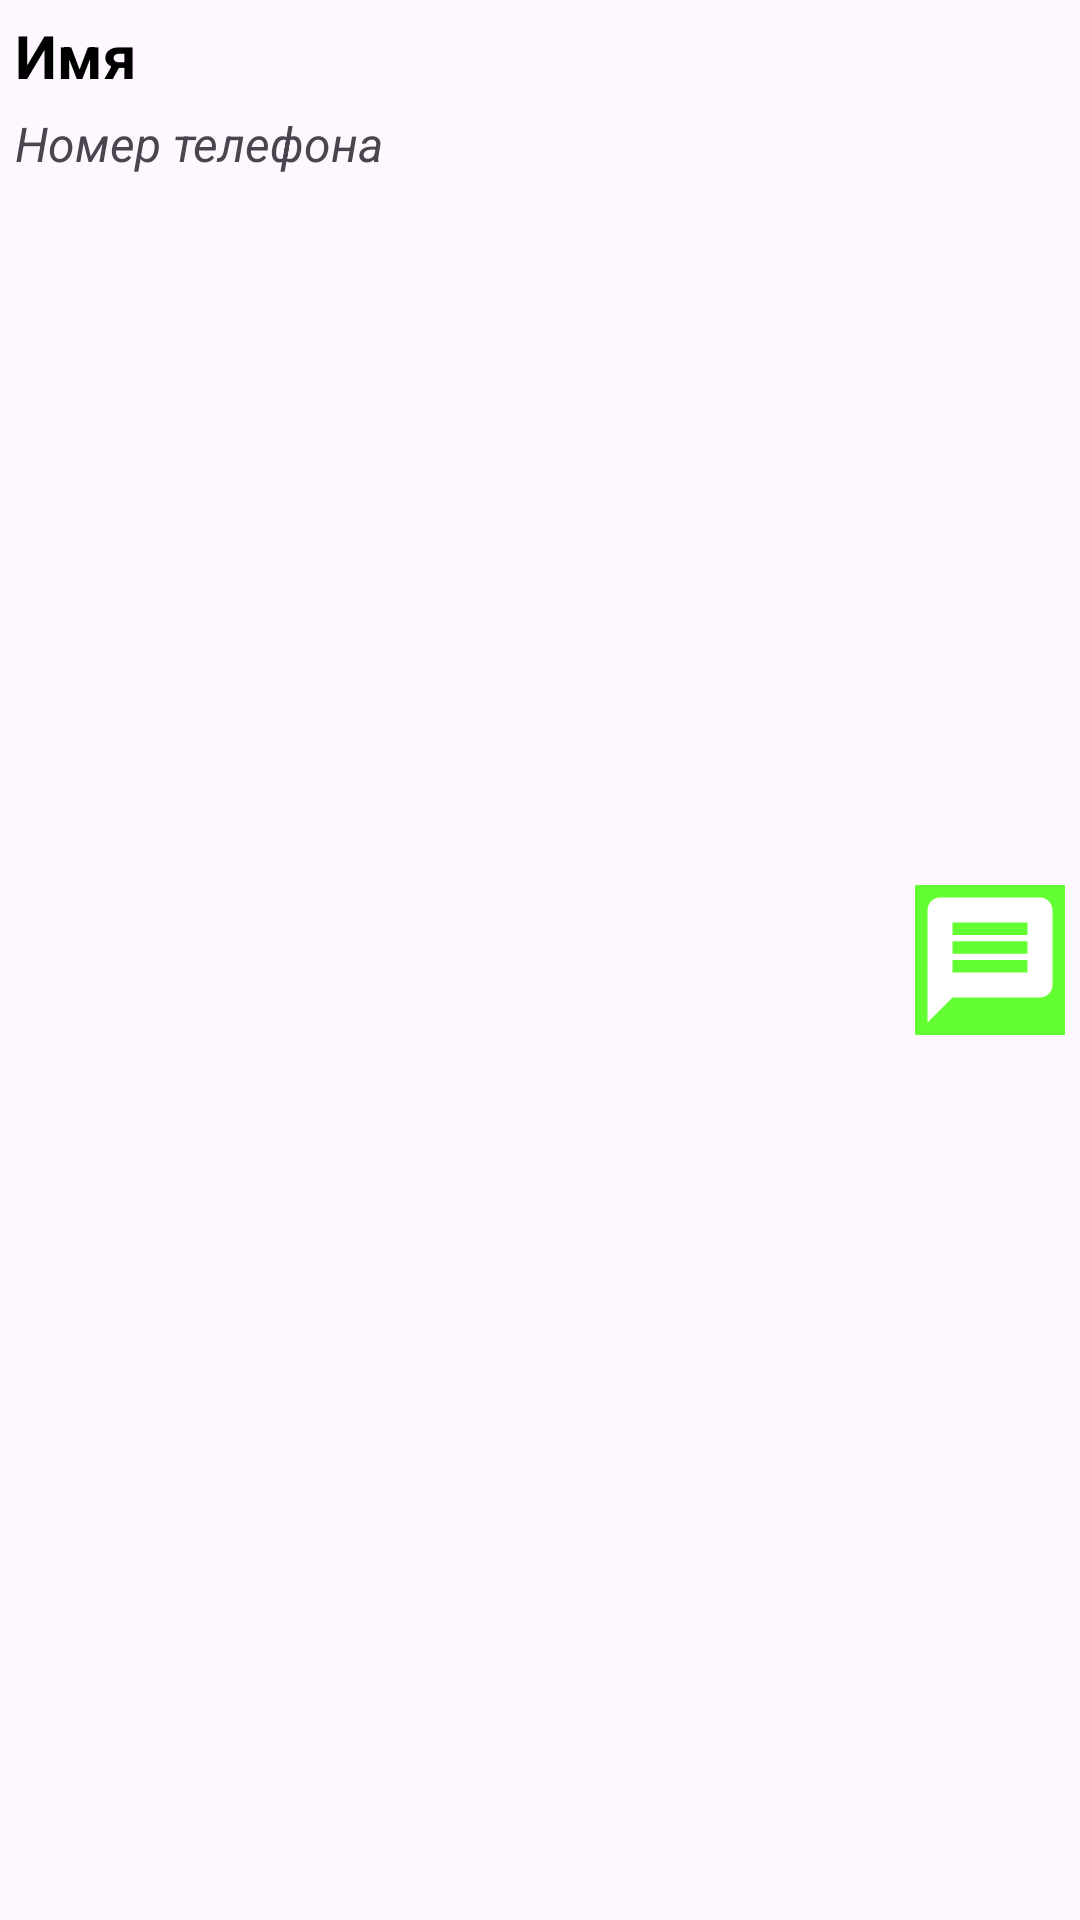

Icon bounding boxes for this 1080px×1920px phone screenshot, format (x1, y1, x2, y2):
message: (915, 885, 1065, 1035)
